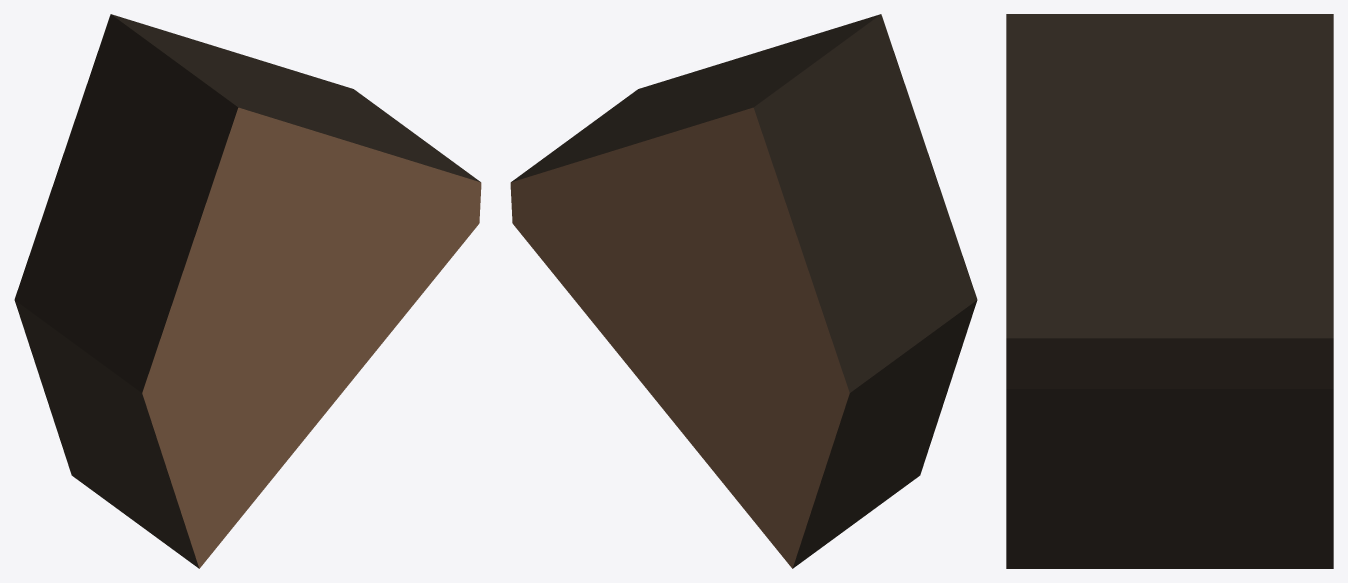
The model's file is SM_DoorShard_03_06.fbx.
3 renders of one model, left to right at view 1: azimuth 30°, elevation 25°; view 2: azimuth 150°, elevation 25°; view 3: azimuth 270°, elevation 25°, orthographic. The views are drawn at different scales.
Parts seen in each view (by area): view 1: SM_DoorShard_03_06; view 2: SM_DoorShard_03_06; view 3: SM_DoorShard_03_06.
Part boxes in pixels (x1,y1,x2,y2): SM_DoorShard_03_06: [14, 14, 481, 568]; SM_DoorShard_03_06: [510, 14, 977, 568]; SM_DoorShard_03_06: [1006, 14, 1333, 568].
Size of the model in its own units: 24.55 by 16 by 31.25.
